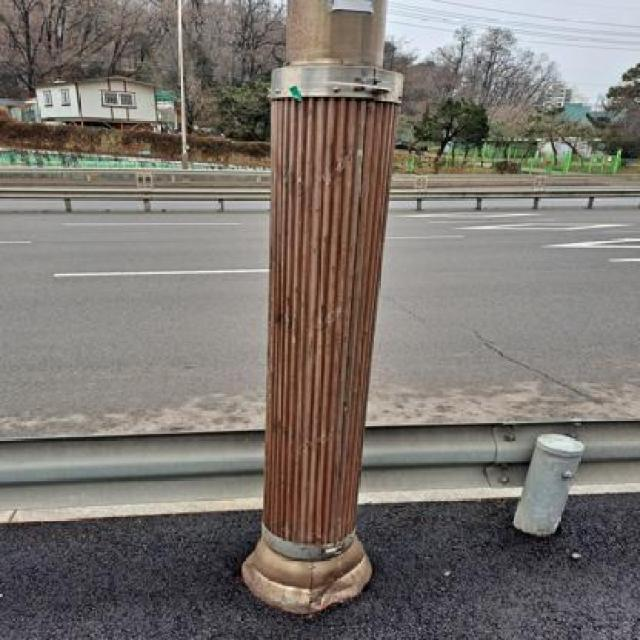pole: (224, 0, 410, 626)
